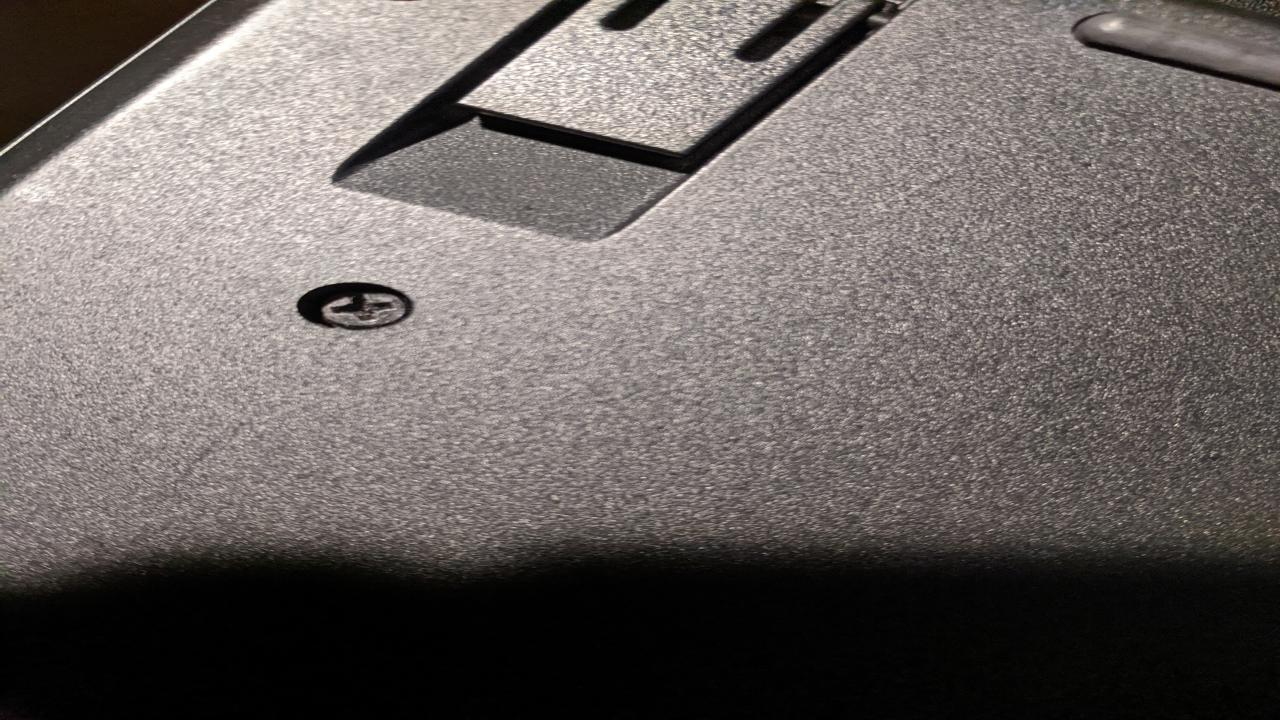CRS: (306, 284, 416, 332)
